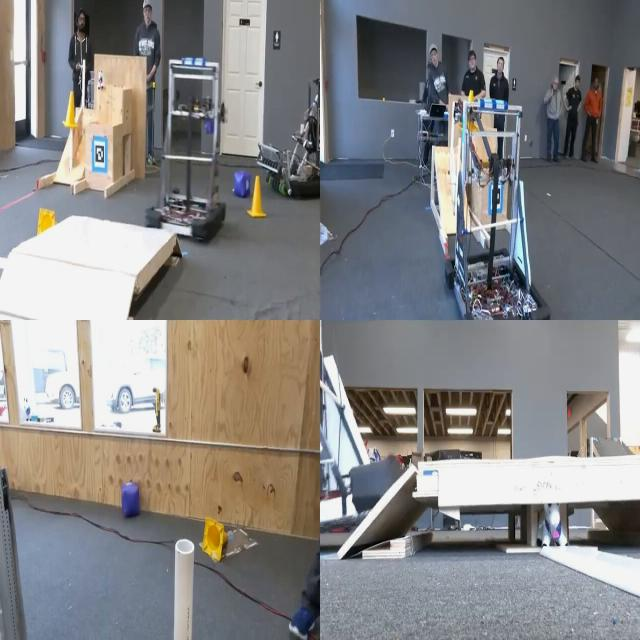frc_cone: (198, 508, 232, 566), (34, 200, 60, 242), (462, 79, 480, 129), (63, 88, 81, 129), (250, 174, 264, 223)
frc_cube: (114, 480, 143, 520), (229, 170, 249, 204)
